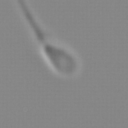normal: (15, 1, 47, 43)
